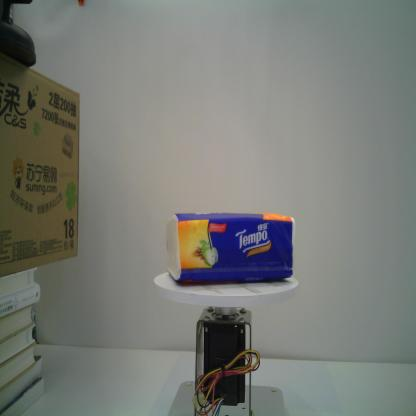Tissue: (166, 212, 296, 284)
